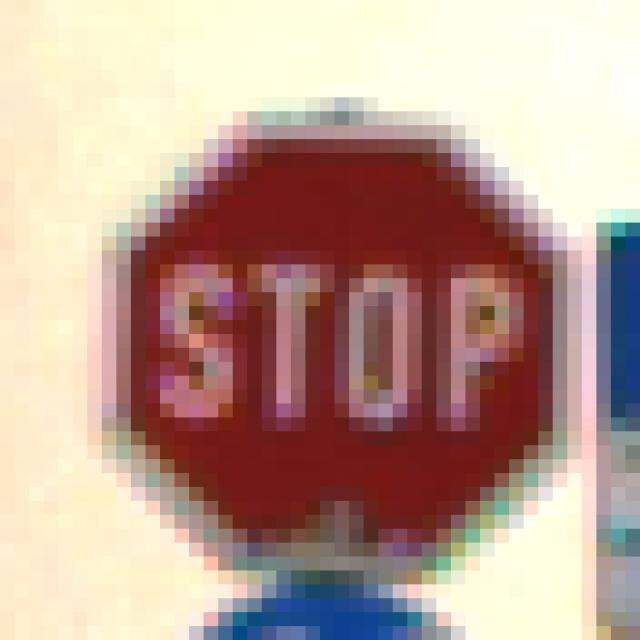STOP: (88, 85, 554, 572)
